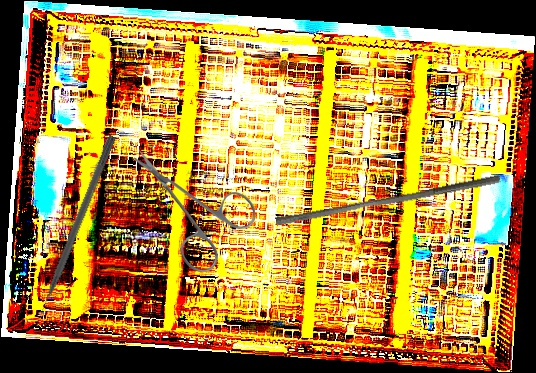Iris Scissors: (133, 147, 257, 274)
Pusher: (31, 133, 117, 326), (274, 165, 502, 235)
